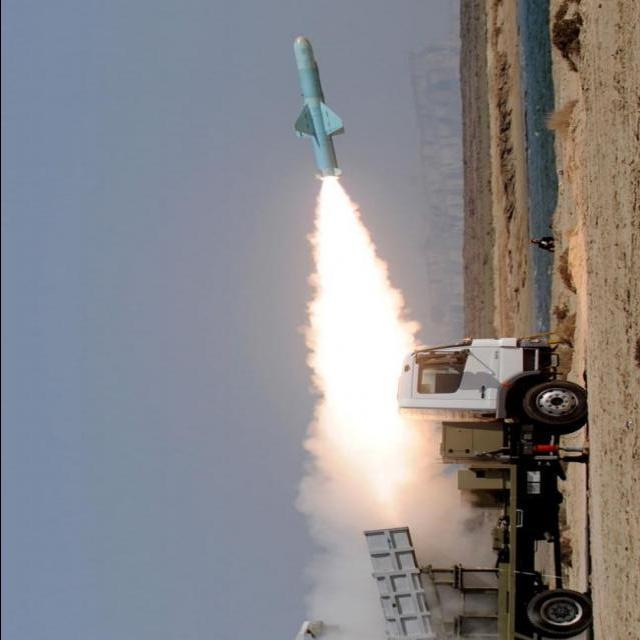missile: (288, 29, 352, 179)
